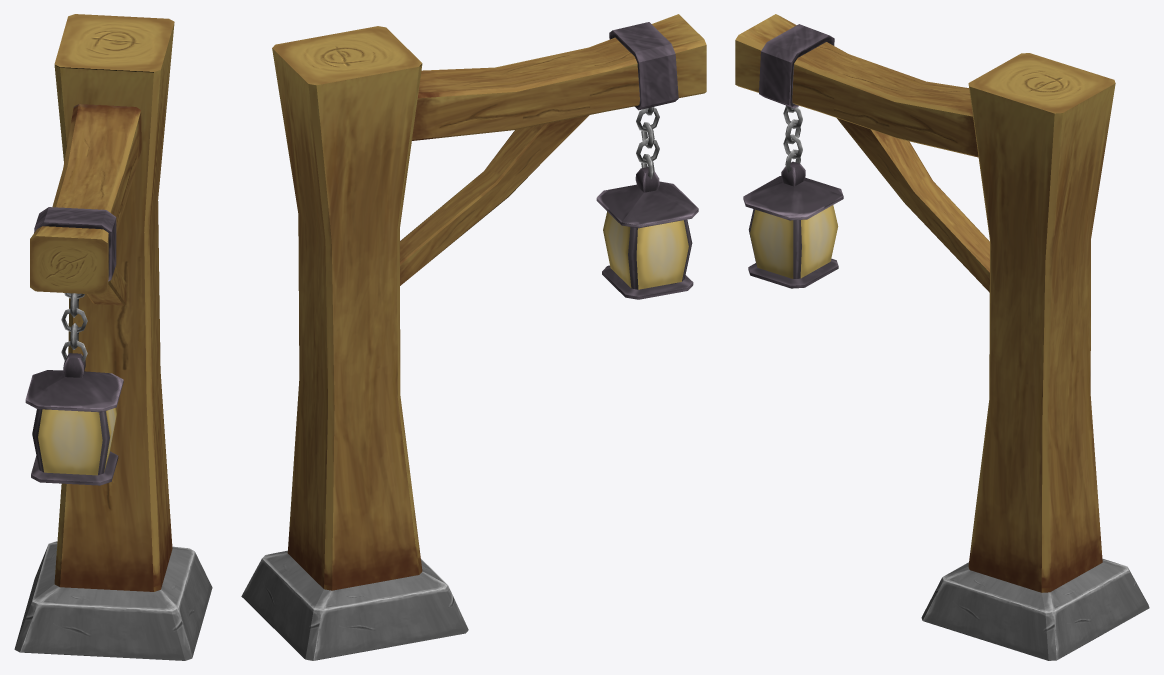
The model's file is farolillo_prop.fbx.
3 renders of one model, left to right at view 1: azimuth 30°, elevation 25°; view 2: azimuth 150°, elevation 25°; view 3: azimuth 270°, elevation 25°, orthographic. The views are drawn at different scales.
Parts seen in each view (by area): view 1: polySurface1; view 2: polySurface1; view 3: polySurface1.
Part boxes in pixels (x1,y1,x2,y2): polySurface1: [14, 14, 212, 660]; polySurface1: [241, 14, 706, 660]; polySurface1: [735, 14, 1149, 660].
Size of the model in its own units: 3.75 by 6.26 by 4.42.
